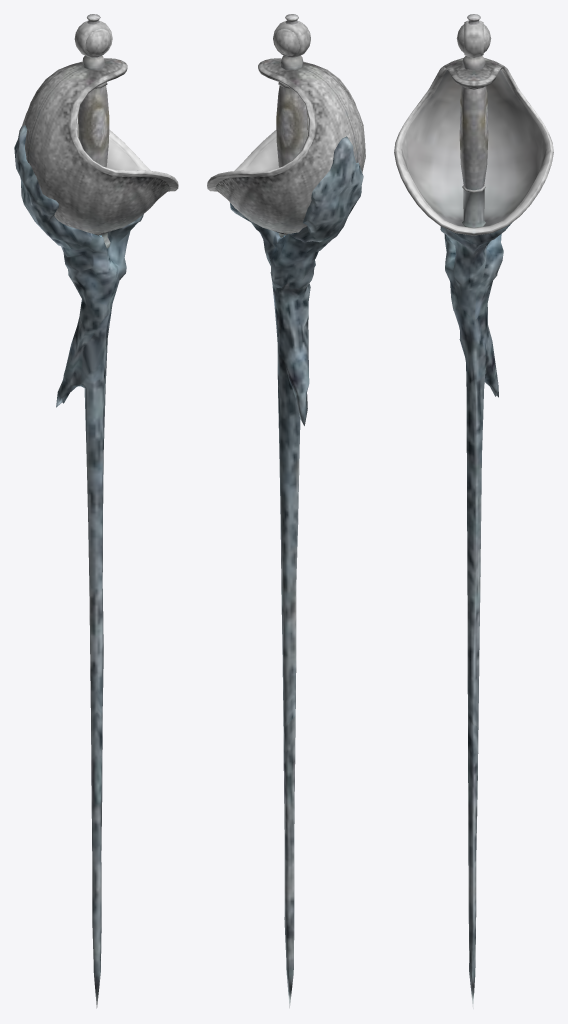
The model's file is weapon-wp_a_0254.glb.
3 renders of one model, left to right at view 1: azimuth 30°, elevation 25°; view 2: azimuth 150°, elevation 25°; view 3: azimuth 270°, elevation 25°, orthographic.
Parts seen in each view (by area): view 1: wp_a_0254_mesh; view 2: wp_a_0254_mesh; view 3: wp_a_0254_mesh.
Boxes of the visible parts, box(x1,y1,x2,y2) form: wp_a_0254_mesh: box(14, 14, 178, 1008); wp_a_0254_mesh: box(207, 14, 365, 1008); wp_a_0254_mesh: box(394, 14, 553, 1008).
Bounding box in the file's own units: 0.1566 × 1.05 × 0.1539.
2 materials, 2 textured.
